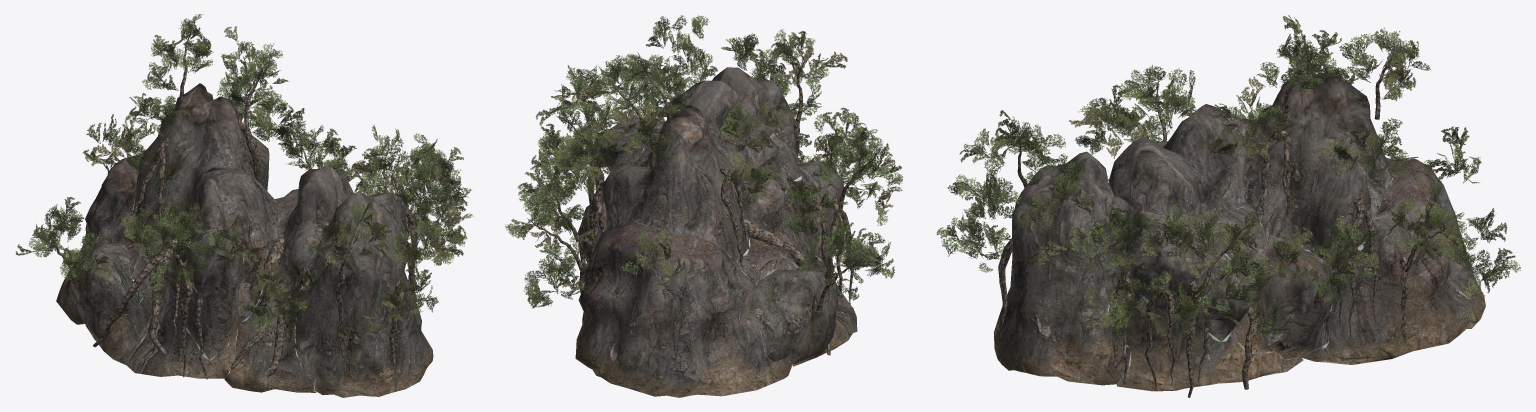
Rendered from RocaSelva.glb.
The picture shows the model from 3 angles, left to right: view 1: azimuth 30°, elevation 25°; view 2: azimuth 150°, elevation 25°; view 3: azimuth 270°, elevation 25°; orthographic projection. The views are drawn at different scales.
Parts seen in each view (by area): view 1: Roca, Hojas, Ramas; view 2: Roca, Hojas, Ramas; view 3: Roca, Hojas, Ramas.
Part boxes in pixels (x1,y1,x2,y2): Roca: (56, 83, 433, 397); Hojas: (15, 14, 473, 336); Ramas: (36, 25, 455, 379); Roca: (575, 67, 857, 397); Hojas: (505, 15, 902, 308); Ramas: (527, 42, 878, 355); Roca: (993, 72, 1485, 391); Hojas: (936, 15, 1520, 337); Ramas: (998, 45, 1447, 397).
Bounding box in the file's own units: 30.82 × 20.86 × 35.2.
Materials: 3 (3 with a texture image).
